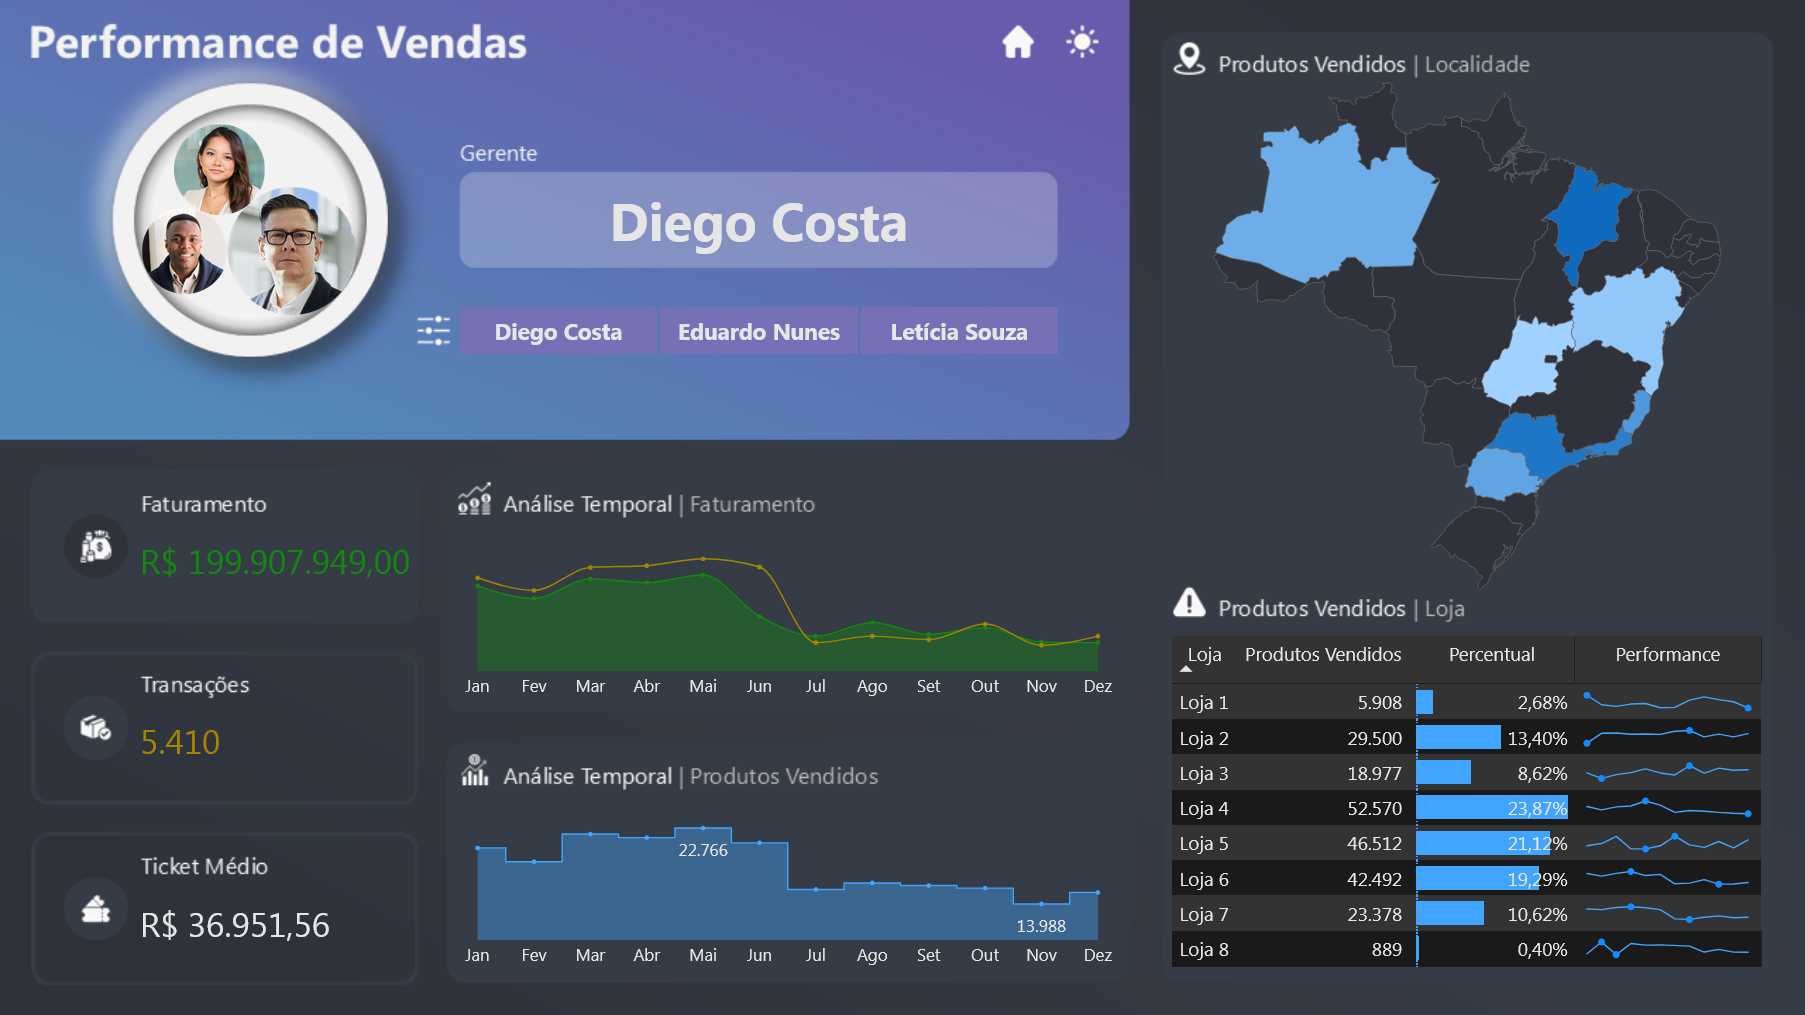

The dashboard page shown, as its layout file describes it:
{"tool":"powerbi","page":{"name":"analise-dark","canvas":[1280,720],"ordinal":1},"visuals":[{"type":"cardVisual","fields":{"Data":["fPedidos.Faturamento"]},"box":[82,350.2,230,86.5],"z":0},{"type":"cardVisual","fields":{"Data":["fPedidos.Quantidade de Pedidos"]},"box":[82,478,230,86],"z":1000},{"type":"cardVisual","fields":{"Data":["fPedidos.Ticket Médio"]},"box":[82,608,230,86],"z":2000},{"type":"slicer","fields":{"Values":["dGerentes.nome_gerente"]},"box":[299.9,210.8,474.6,47.6],"z":3000},{"type":"areaChart","fields":{"Category":["dCalendario.mes_abreviado"],"Y":["fPedidos.Faturamento"],"Y2":["Medidas.quantidade_pedidos"]},"box":[318,368.6,482,136],"z":4000},{"type":"card","fields":{"Values":["Min(dGerentes.nome_gerente)"]},"box":[326,122,424,68],"z":6000},{"type":"tableEx","fields":{"Values":["lojas.nome_loja","Medidas.quantidade_produtos","Medidas.percentual_produtos_vendidos_loja","SparklineData(Medidas.quantidade_produtos_[dCalendario.mes_abreviado])"]},"box":[826,446,430,254],"z":7000},{"type":"ImageGrid_FC5183B9_926C_45E0_B5F7_0CE9EAF1DA9B","fields":{"ImageURLHQ":["dGerentes.link_foto_gerente"]},"box":[89,56.5,176.4,198.5],"z":8000},{"type":"shapeMap","fields":{"Category":["dUnidadesFederativas.Estado"],"Value":["Medidas.quantidade_produtos"]},"box":[826,38,430,400],"z":8001},{"type":"areaChart","fields":{"Category":["calendario.mes"],"Y":["fPedidos.Quntidade de Produtos"]},"box":[318,560,482,136],"z":8002},{"type":"actionButton","box":[702,10.6,40,40],"z":8003},{"type":"actionButton","box":[748,9.7,39.7,40.6],"z":8004}]}

Visuals, with their boxes in screenshot pixels (x1, y1, x2, y2), scaled from the page's 1280x720 canvas onto the 1805x1015 screenshot:
cardVisual - fPedidos.Faturamento: (116, 494, 440, 616)
cardVisual - fPedidos.Quantidade de Pedidos: (116, 674, 440, 795)
cardVisual - fPedidos.Ticket Médio: (116, 857, 440, 978)
slicer - dGerentes.nome_gerente: (423, 297, 1092, 364)
areaChart - dCalendario.mes_abreviado x fPedidos.Faturamento: (448, 520, 1128, 711)
card - Min(dGerentes.nome_gerente): (460, 172, 1058, 268)
tableEx - lojas.nome_loja x Medidas.quantidade_produtos: (1165, 629, 1771, 987)
ImageGrid_FC5183B9_926C_45E0_B5F7_0CE9EAF1DA9B - dGerentes.link_foto_gerente: (126, 80, 374, 359)
shapeMap - dUnidadesFederativas.Estado x Medidas.quantidade_produtos: (1165, 54, 1771, 617)
areaChart - calendario.mes x fPedidos.Quntidade de Produtos: (448, 789, 1128, 981)
actionButton: (990, 15, 1046, 71)
actionButton: (1055, 14, 1111, 71)
